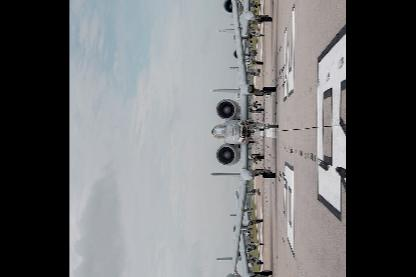A10: (210, 0, 279, 275), (216, 0, 276, 101), (216, 187, 275, 276), (229, 196, 264, 268), (228, 20, 263, 81)
